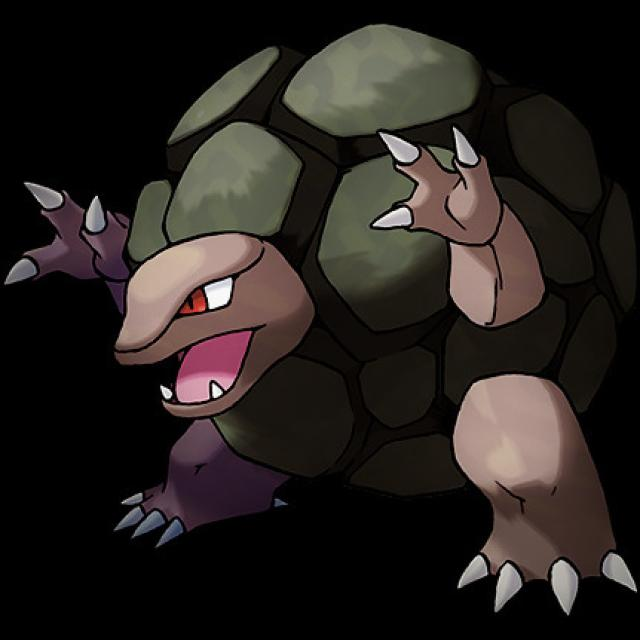Golem: (6, 27, 640, 619)
